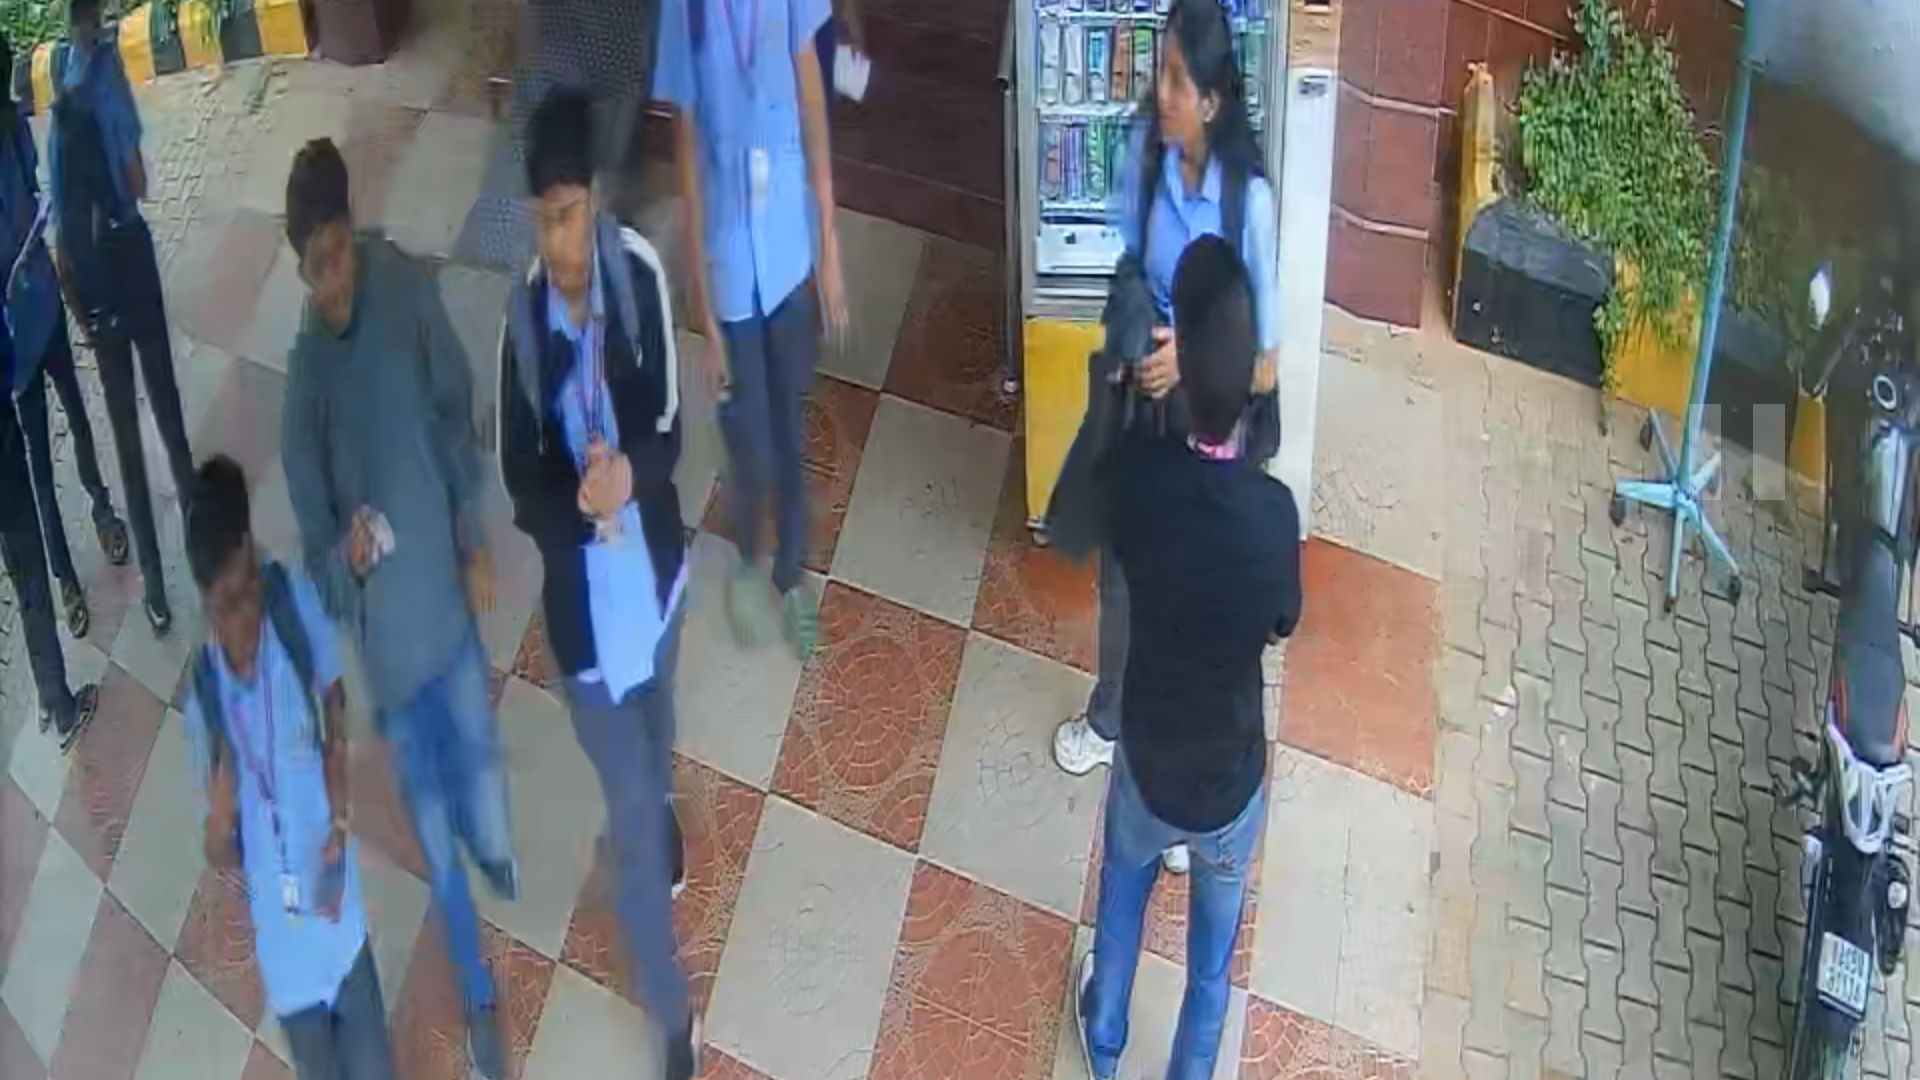intruder: (278, 133, 583, 1080), (1126, 1, 1287, 309)
not intruder: (480, 75, 705, 1080), (160, 440, 419, 1080)
